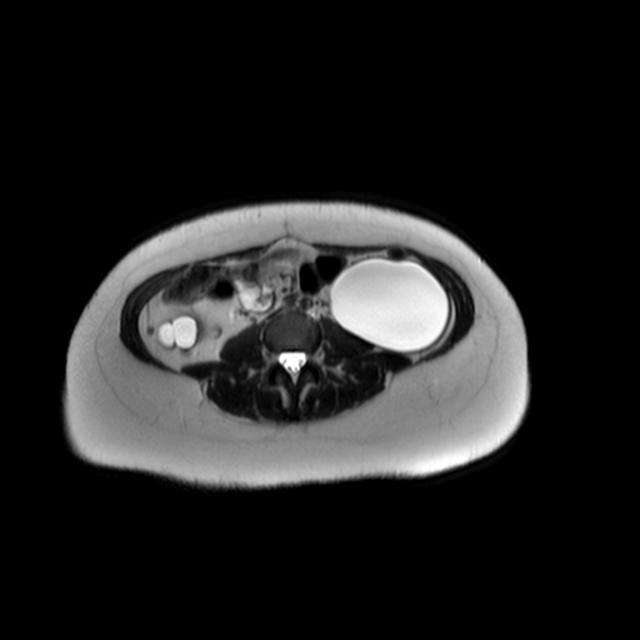sag: (154, 314, 205, 356)
sol: (328, 259, 451, 353)
